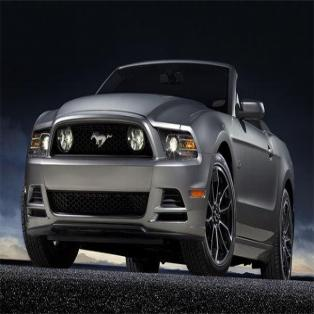Auto: (20, 61, 296, 282)
